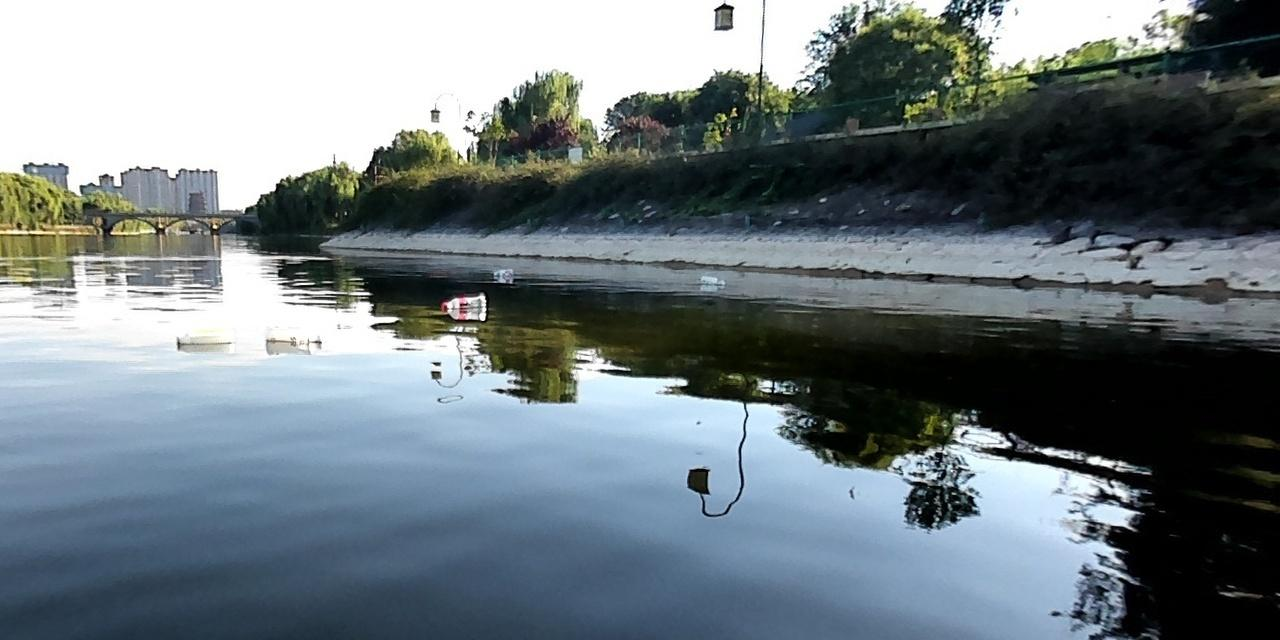bottle: (262, 323, 325, 347), (172, 324, 233, 345), (438, 287, 488, 310), (695, 272, 727, 285), (489, 266, 515, 277)
